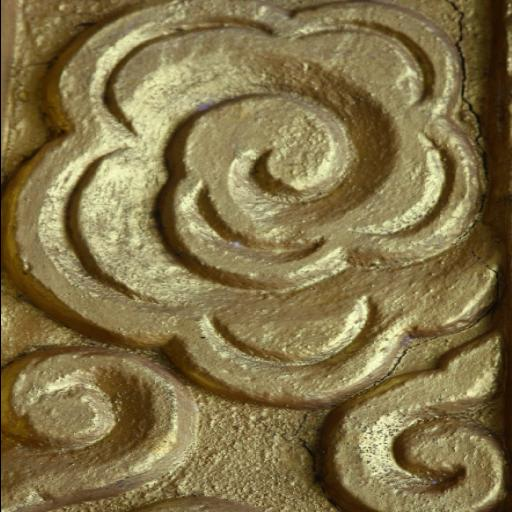hoa: (13, 0, 474, 379)
